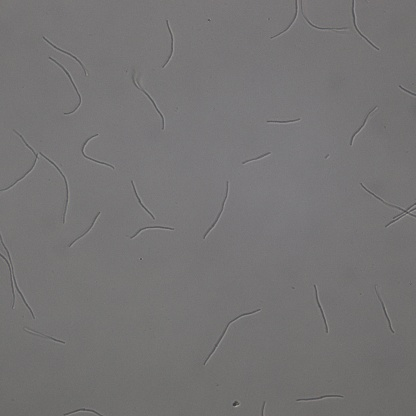Sensitive: (205, 308, 259, 363), (1, 236, 34, 318), (361, 184, 416, 228), (1, 128, 38, 192), (41, 153, 69, 223), (50, 57, 82, 115), (44, 37, 87, 74), (203, 181, 230, 238), (300, 1, 349, 31), (135, 79, 165, 128), (351, 1, 378, 49), (82, 134, 115, 169), (350, 106, 376, 145), (69, 213, 100, 245), (272, 1, 298, 39), (376, 286, 394, 332), (131, 181, 154, 217), (313, 284, 328, 332), (24, 326, 65, 343), (163, 20, 176, 67), (130, 225, 173, 239), (241, 152, 272, 165), (296, 393, 342, 401), (61, 408, 102, 416), (266, 117, 300, 124)
